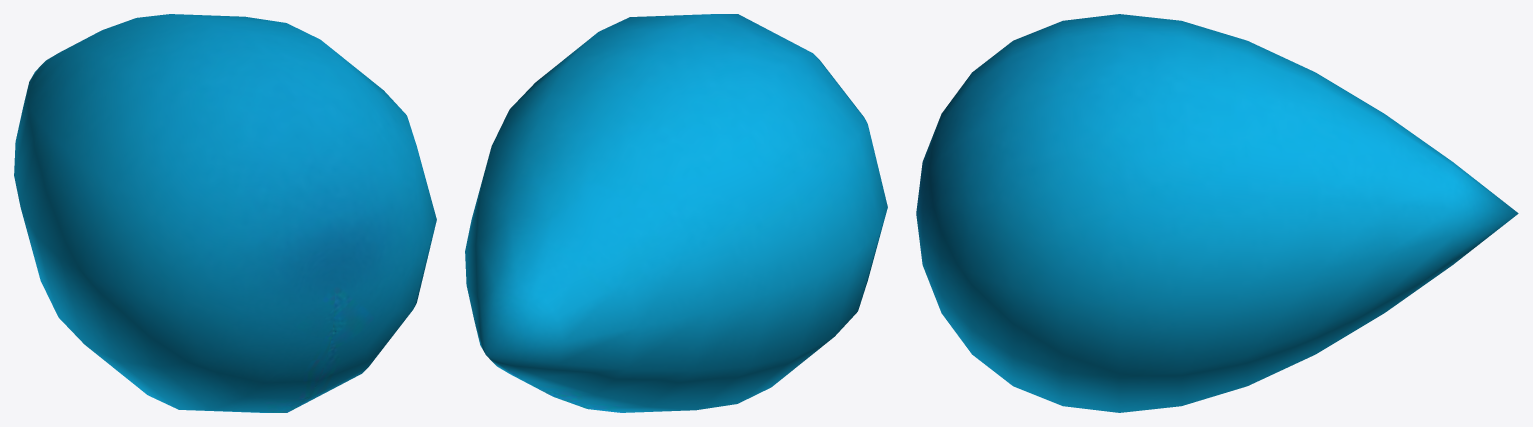
File: bullet chara2.fbx
The picture shows the model from 3 angles, left to right: view 1: azimuth 30°, elevation 25°; view 2: azimuth 150°, elevation 25°; view 3: azimuth 270°, elevation 25°; orthographic projection.
Parts seen in each view (by area): view 1: bullet chara2; view 2: bullet chara2; view 3: bullet chara2.
Part boxes in pixels (left/top/right/bottom): bullet chara2: left=14, top=14, right=436, bottom=412; bullet chara2: left=465, top=14, right=887, bottom=412; bullet chara2: left=916, top=14, right=1518, bottom=412.
Bounding box in the file's own units: 14.03 × 14.03 × 21.11.
